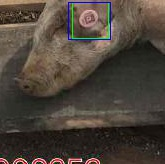text: (72, 2, 108, 38)
